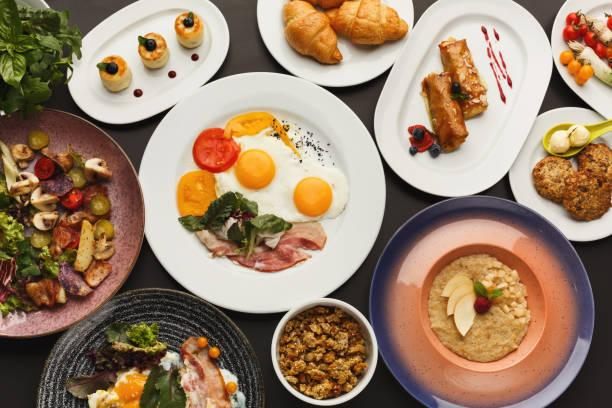Braised Crucian Carp: (137, 66, 384, 303), (356, 180, 611, 408), (365, 6, 543, 194), (0, 104, 139, 342), (34, 287, 261, 406), (47, 3, 241, 115), (251, 0, 425, 90), (507, 105, 612, 234)
